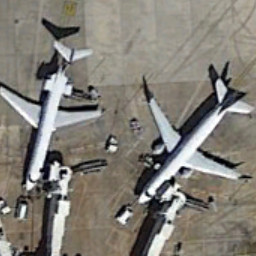Airplane: (1, 36, 122, 197), (133, 60, 256, 213)
